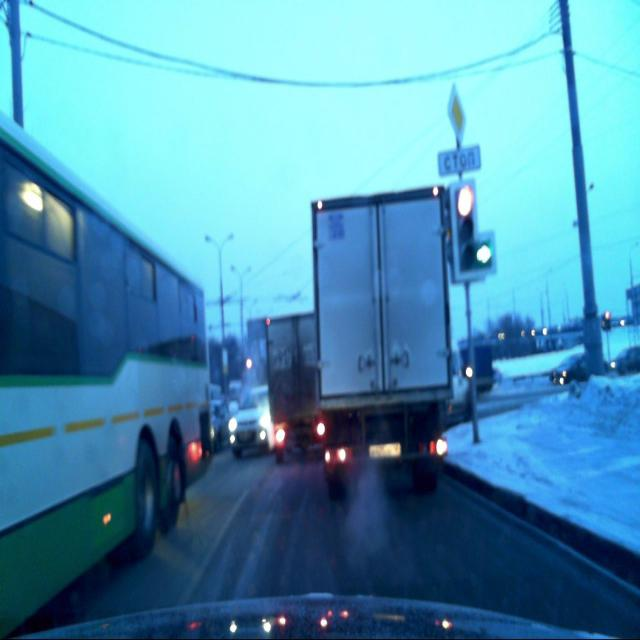object: (466, 284, 480, 446)
road sign: (438, 146, 483, 178), (446, 84, 468, 141)
